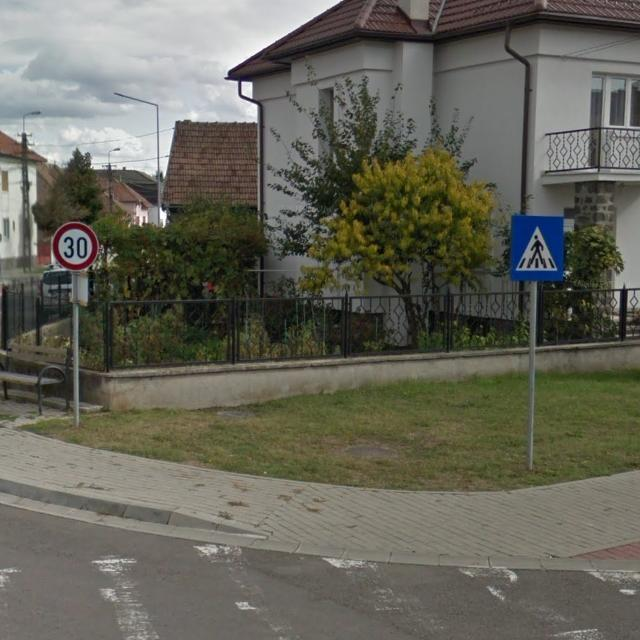forb_speed_over_30: (53, 222, 99, 269)
info_crosswalk: (510, 216, 565, 281)
